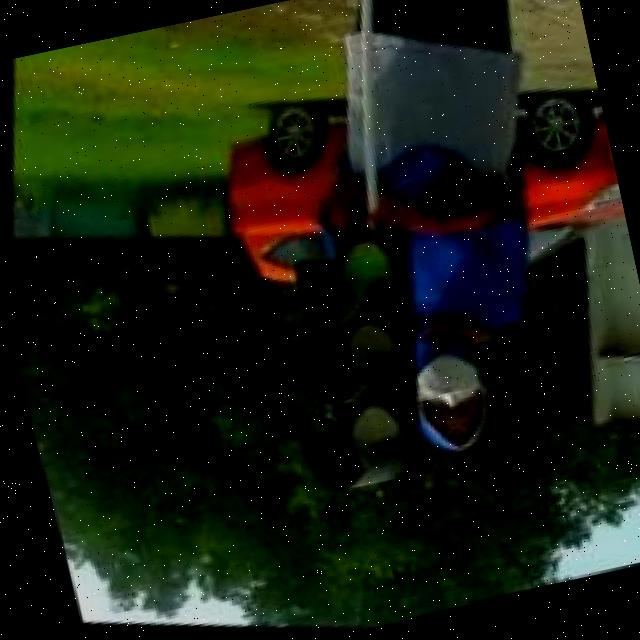green_light: (226, 200, 479, 520)
